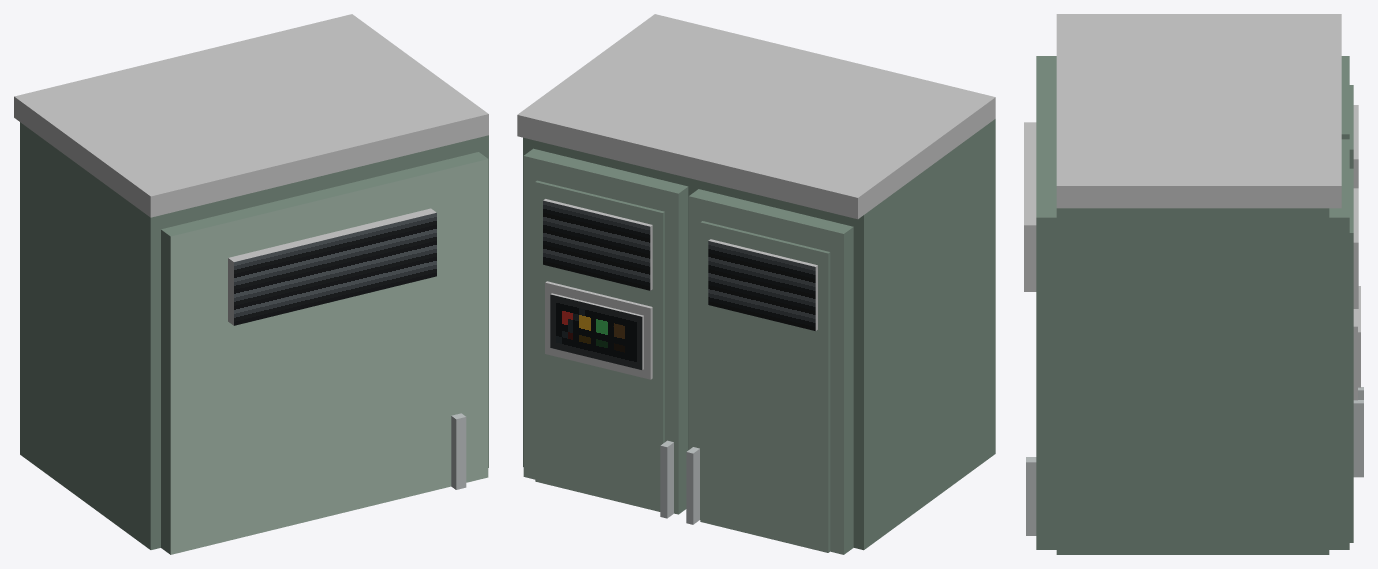
Rendered from cabinet_upper.obj.
3 views of the same model, side by side, from view 1: azimuth 30°, elevation 25°; view 2: azimuth 150°, elevation 25°; view 3: azimuth 270°, elevation 25° (orthographic). The views are drawn at different scales.
Visible parts, largest first — view 1: cabinet_upper; view 2: cabinet_upper; view 3: cabinet_upper.
Boxes of the visible parts, x1=… form: cabinet_upper: x1=14, y1=14, x2=488, y2=554; cabinet_upper: x1=517, y1=14, x2=995, y2=554; cabinet_upper: x1=1024, y1=14, x2=1363, y2=554.
Bounding box in the file's own units: 1 × 1 × 0.835.
